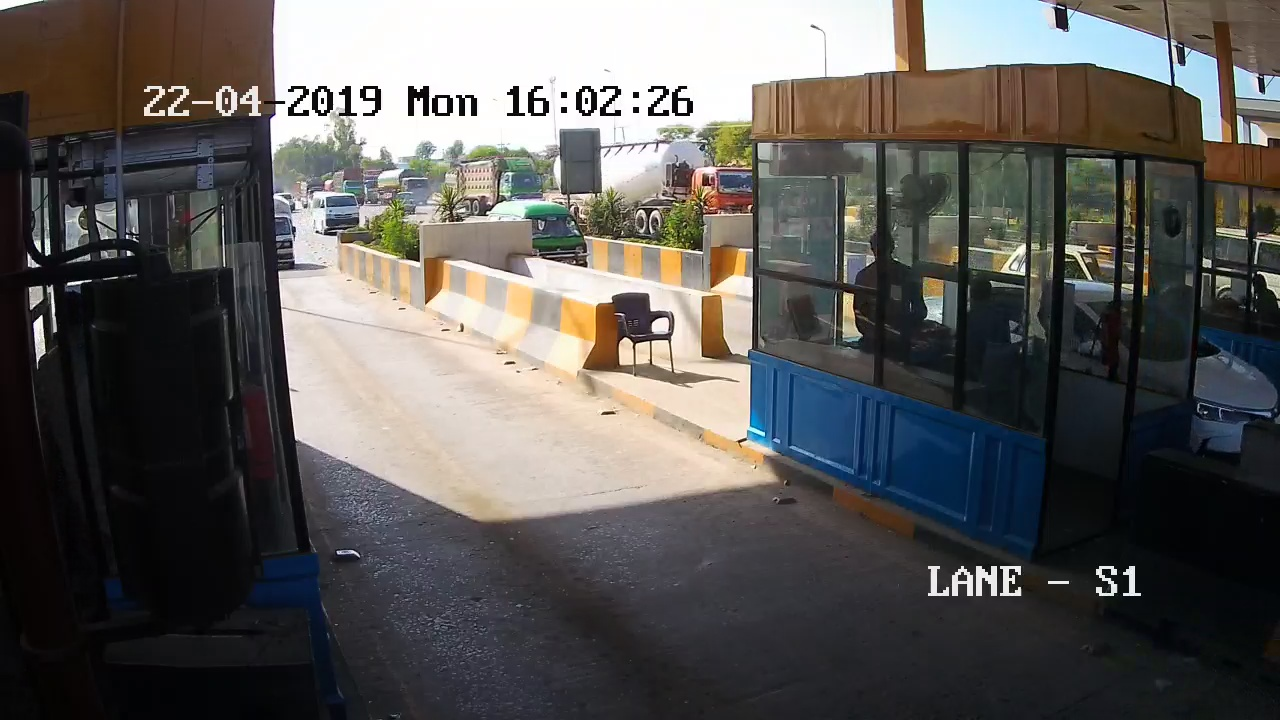car: (277, 194, 312, 287)
